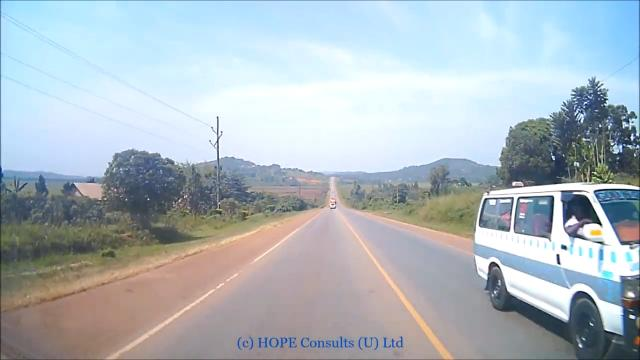van: (468, 193, 640, 347)
